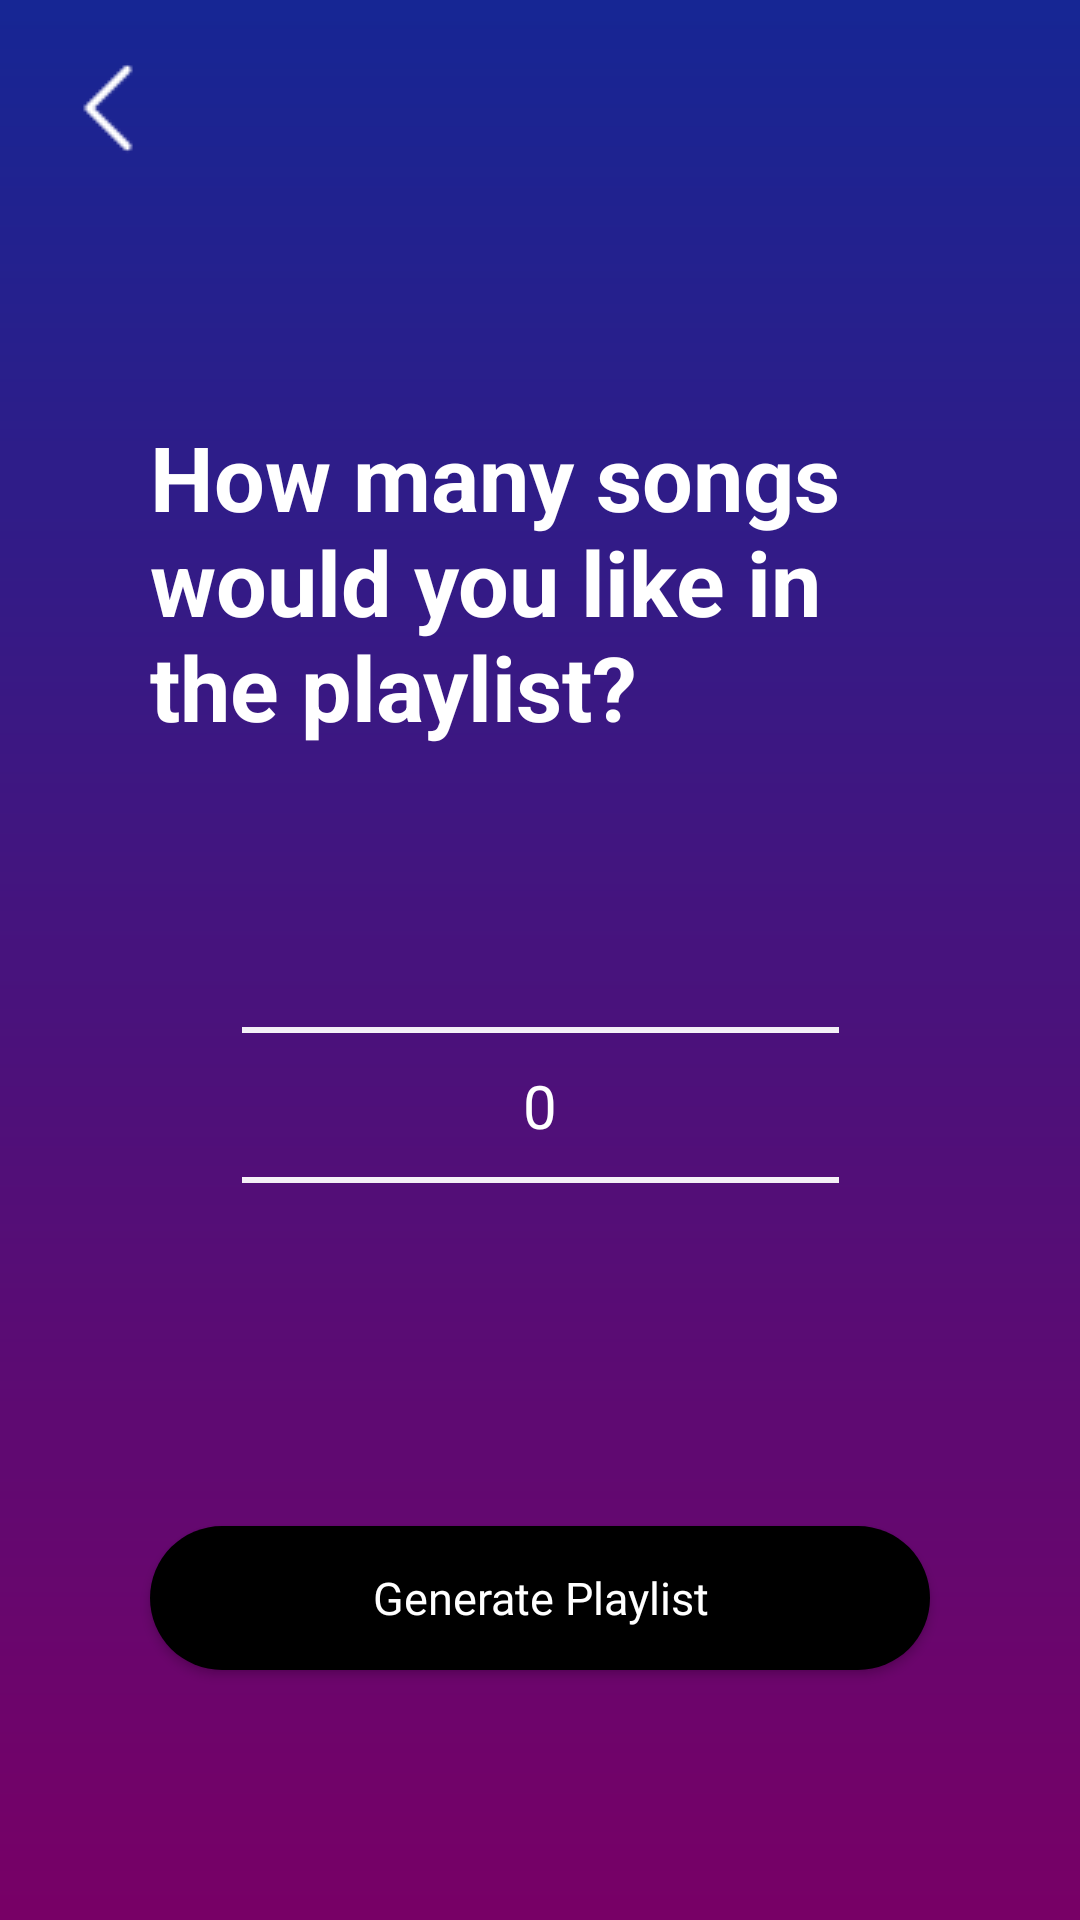

Where icons sit on this 1080*1920 app screen, as {"left": x1, "top": y1, "right": x2, "bottom": y2}:
Back arrow: {"left": 83, "top": 65, "right": 133, "bottom": 151}
